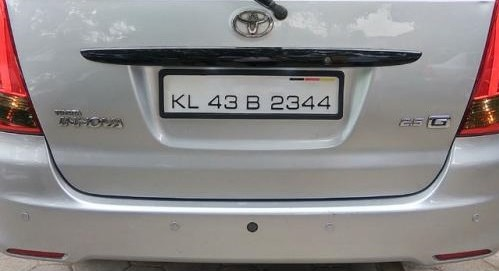KL43B2344: (162, 72, 341, 116)
